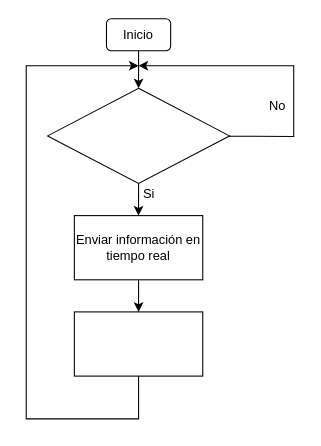
Some shapes in this 321 by 446 pixel diagram are drawn without their labels. Here are the shapes that lost their labels. From the top down, the centre of each, then its label:
At pixel 138 135: "¿El sensor captó un nuevo paquete?".
At pixel 138 343: "Mostrar en App".
